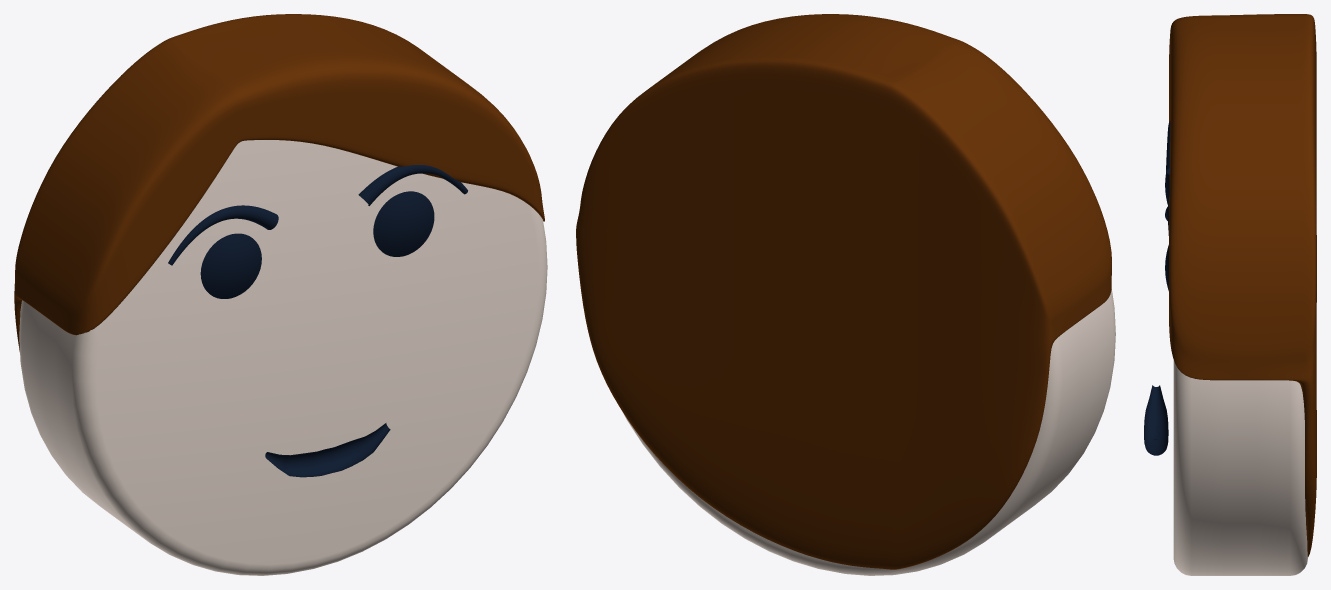
The model's file is head1.dae.
The picture shows the model from 3 angles, left to right: view 1: azimuth 30°, elevation 25°; view 2: azimuth 150°, elevation 25°; view 3: azimuth 270°, elevation 25°; orthographic projection. The views are drawn at different scales.
Parts seen in each view (by area): view 1: head, maleHair, leftEye, RightEye, Mouth, RightBrow, LeftBrow; view 2: maleHair, head; view 3: maleHair, head, Mouth.
Part boxes in pixels (left/top/right/bottom): head: left=19, top=140, right=547, bottom=575; maleHair: left=14, top=14, right=544, bottom=351; leftEye: left=373, top=191, right=434, bottom=256; RightEye: left=200, top=233, right=261, bottom=298; Mouth: left=265, top=423, right=390, bottom=477; RightBrow: left=168, top=205, right=278, bottom=265; LeftBrow: left=358, top=165, right=467, bottom=205; maleHair: left=576, top=14, right=1111, bottom=569; head: left=622, top=289, right=1115, bottom=575; maleHair: left=1169, top=14, right=1316, bottom=556; head: left=1173, top=360, right=1307, bottom=575; Mouth: left=1144, top=385, right=1168, bottom=455.
Size of the model in its own units: 120 by 123 by 38.56.
